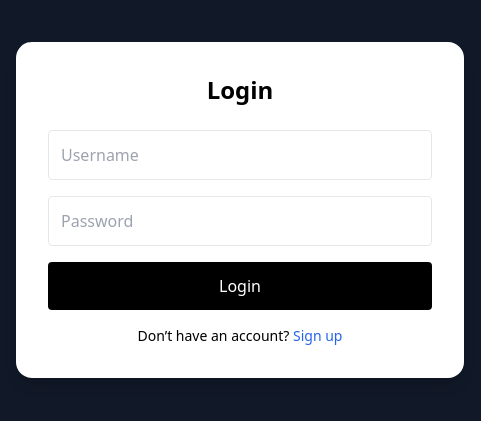
Test: Login page › shows "Network error" when there is no response object
The image size is (481, 421).
Click the button "Login" at (240, 286), box [48, 262, 432, 310]
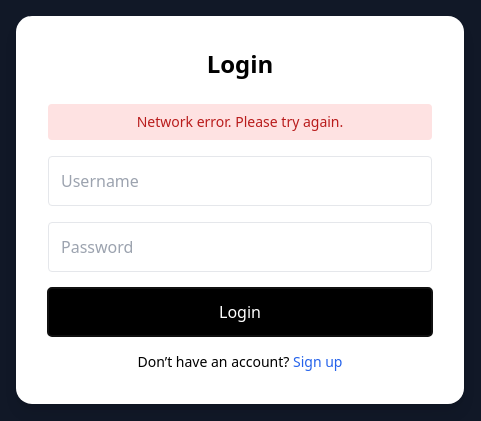
Now the text "Network error. Please try again." is shown, box [48, 104, 432, 140]
